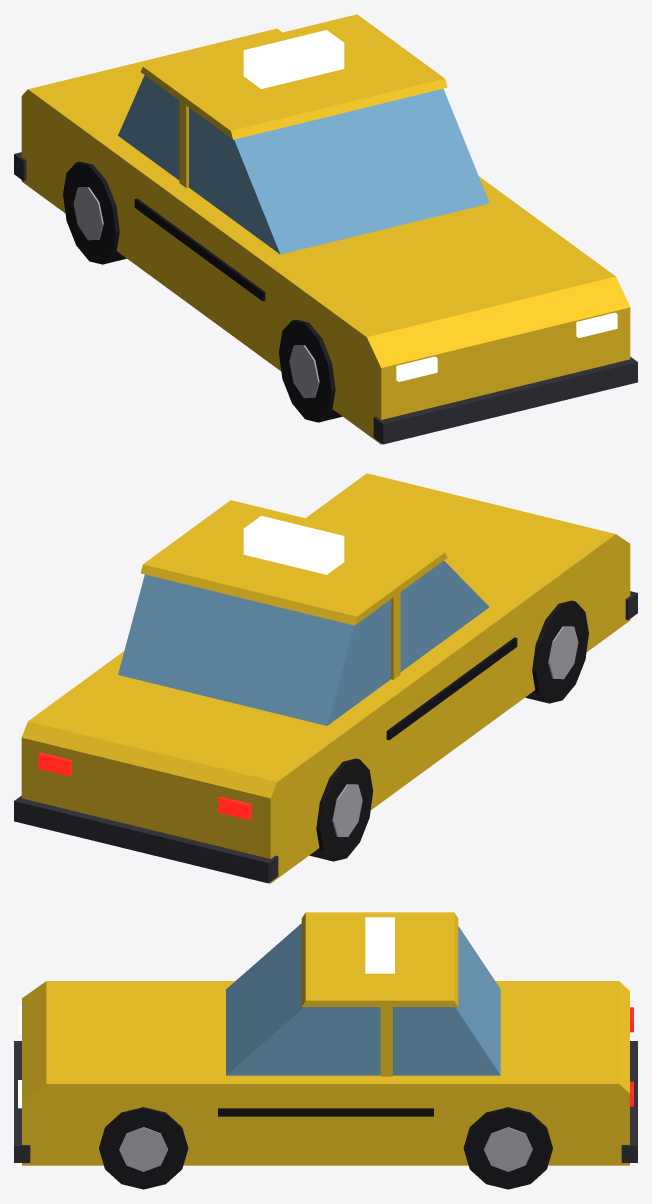
The model's file is car_taxi.glb.
The picture shows the model from 3 angles, top to bottom: view 1: azimuth 30°, elevation 25°; view 2: azimuth 150°, elevation 25°; view 3: azimuth 270°, elevation 25°; orthographic projection. The views are drawn at different scales.
Visible parts, largest first — view 1: car_taxi; view 2: car_taxi; view 3: car_taxi.
Boxes of the visible parts, left/top/right/bottom form: car_taxi: left=14, top=14, right=637, bottom=444; car_taxi: left=14, top=473, right=637, bottom=883; car_taxi: left=14, top=912, right=637, bottom=1189.
Size of the model in its own units: 1.88 by 1.65 by 4.62.
